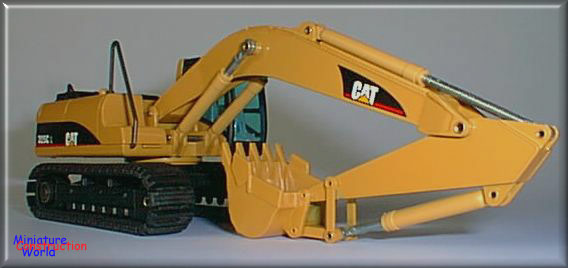backhoe: (24, 21, 562, 238)
